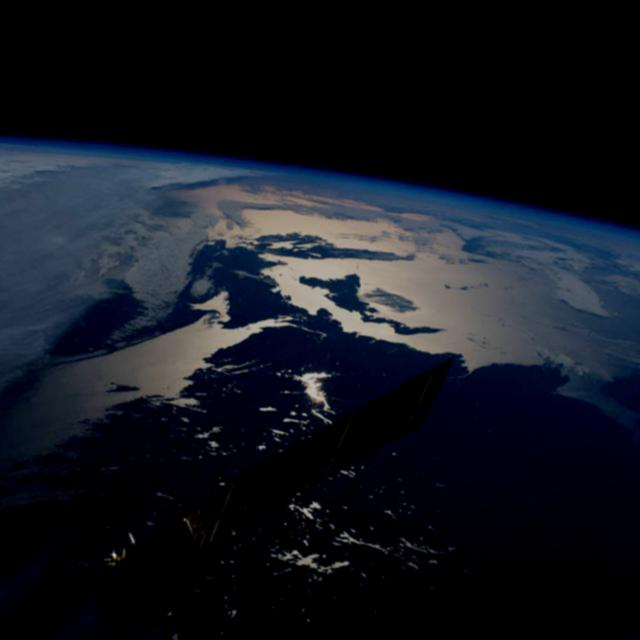satellite: (64, 347, 466, 640)
